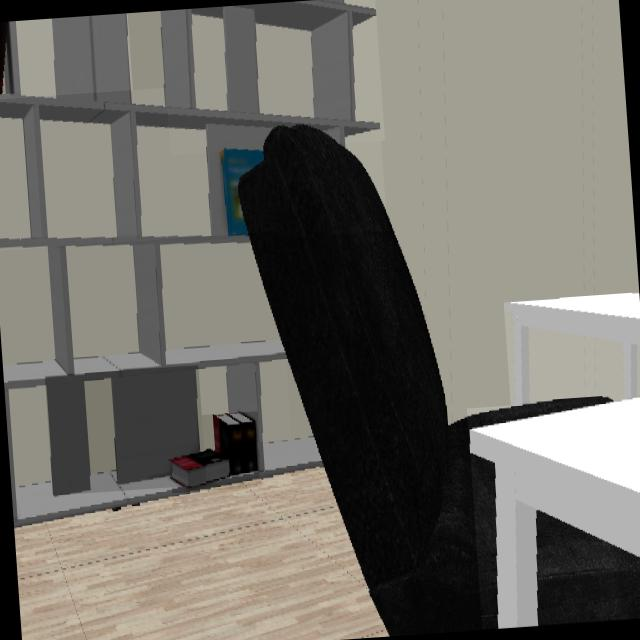book: (169, 412, 260, 491), (220, 147, 263, 240), (0, 21, 9, 94)
bookshelf: (2, 245, 286, 527), (0, 102, 380, 242), (160, 0, 382, 143), (46, 366, 200, 495), (0, 13, 133, 118), (259, 439, 319, 476)
table: (469, 397, 640, 627), (503, 294, 640, 406)
